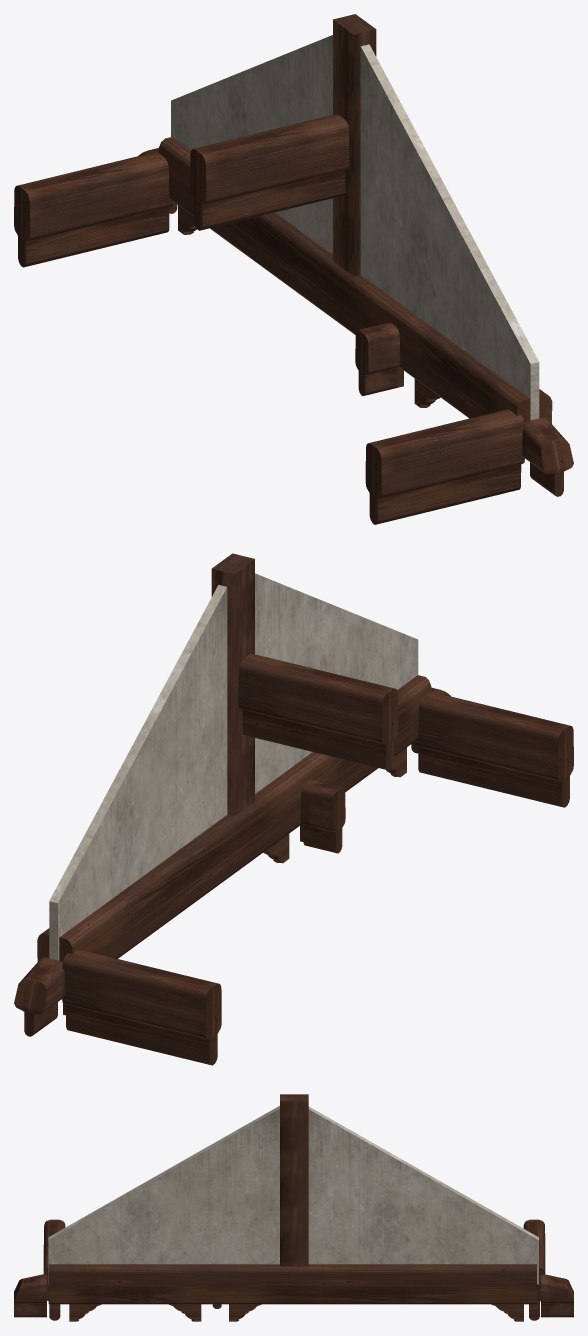
File: SM_R_MiddleBeam_28.fbx
3 views of the same model, one above another, from view 1: azimuth 30°, elevation 25°; view 2: azimuth 150°, elevation 25°; view 3: azimuth 270°, elevation 25° (orthographic). The views are drawn at different scales.
Parts seen in each view (by area): view 1: SM_R_MiddleBeam_28; view 2: SM_R_MiddleBeam_28; view 3: SM_R_MiddleBeam_28.
Boxes of the visible parts, x1,y1,x2,y2 form: SM_R_MiddleBeam_28: (14,14,573,524); SM_R_MiddleBeam_28: (14,553,573,1065); SM_R_MiddleBeam_28: (14,1094,573,1321).
Bounding box in the file's own units: 127 × 517 × 231.
4 materials, 4 textured.
